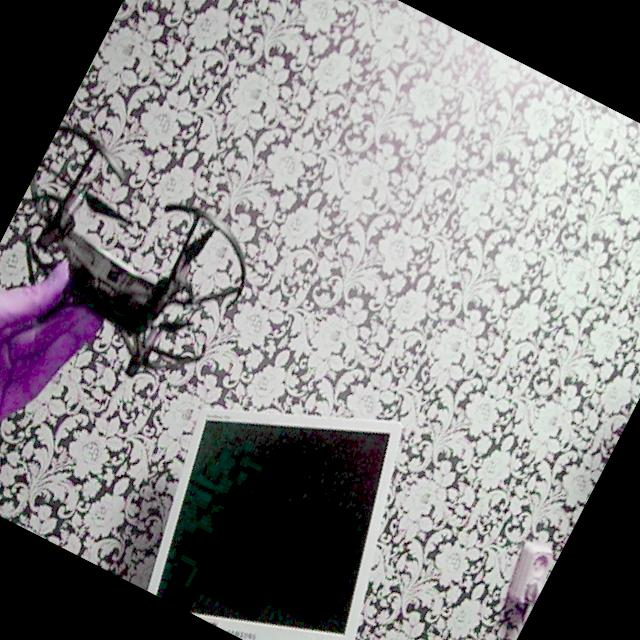drone: (0, 94, 295, 430)
